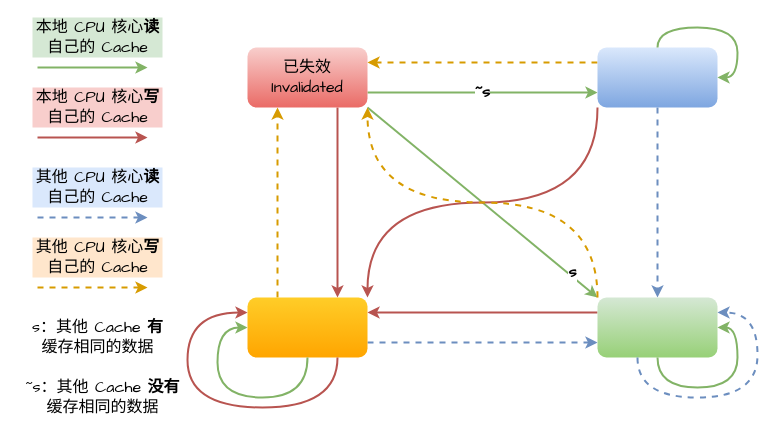
The diagram is 775 pixels wide and 434 high, and some of its shapes have lost their labels. The centre of each missing label's shape, as x and y in pixels:
分享 Shared: (657,327)
已修改 Modified: (307,327)
独占 Exclusive: (657,77)
